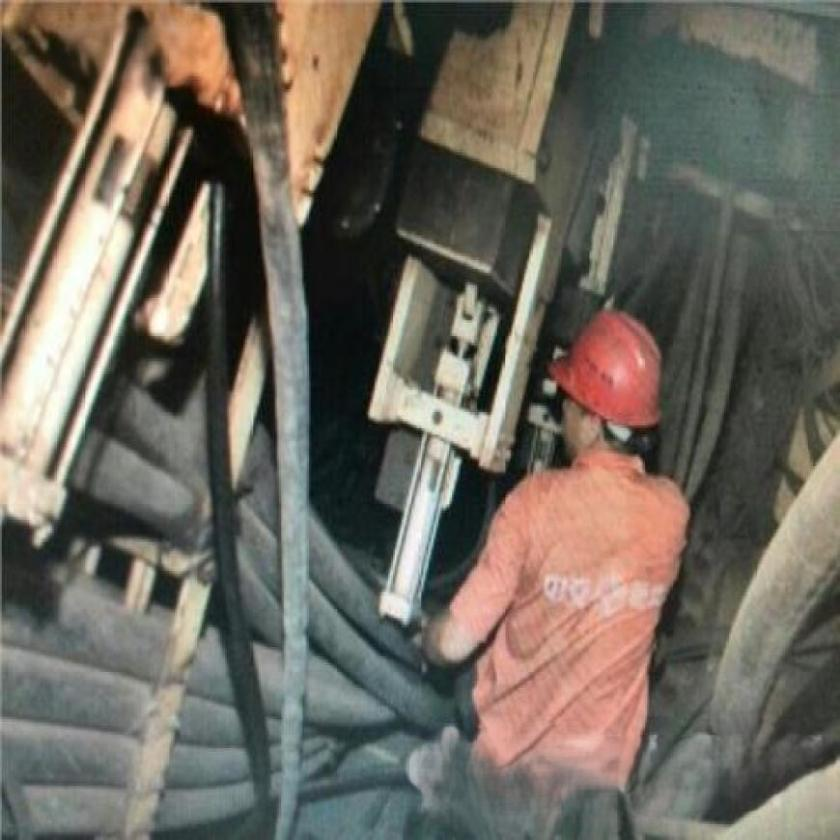Con_casco: (549, 301, 668, 487)
